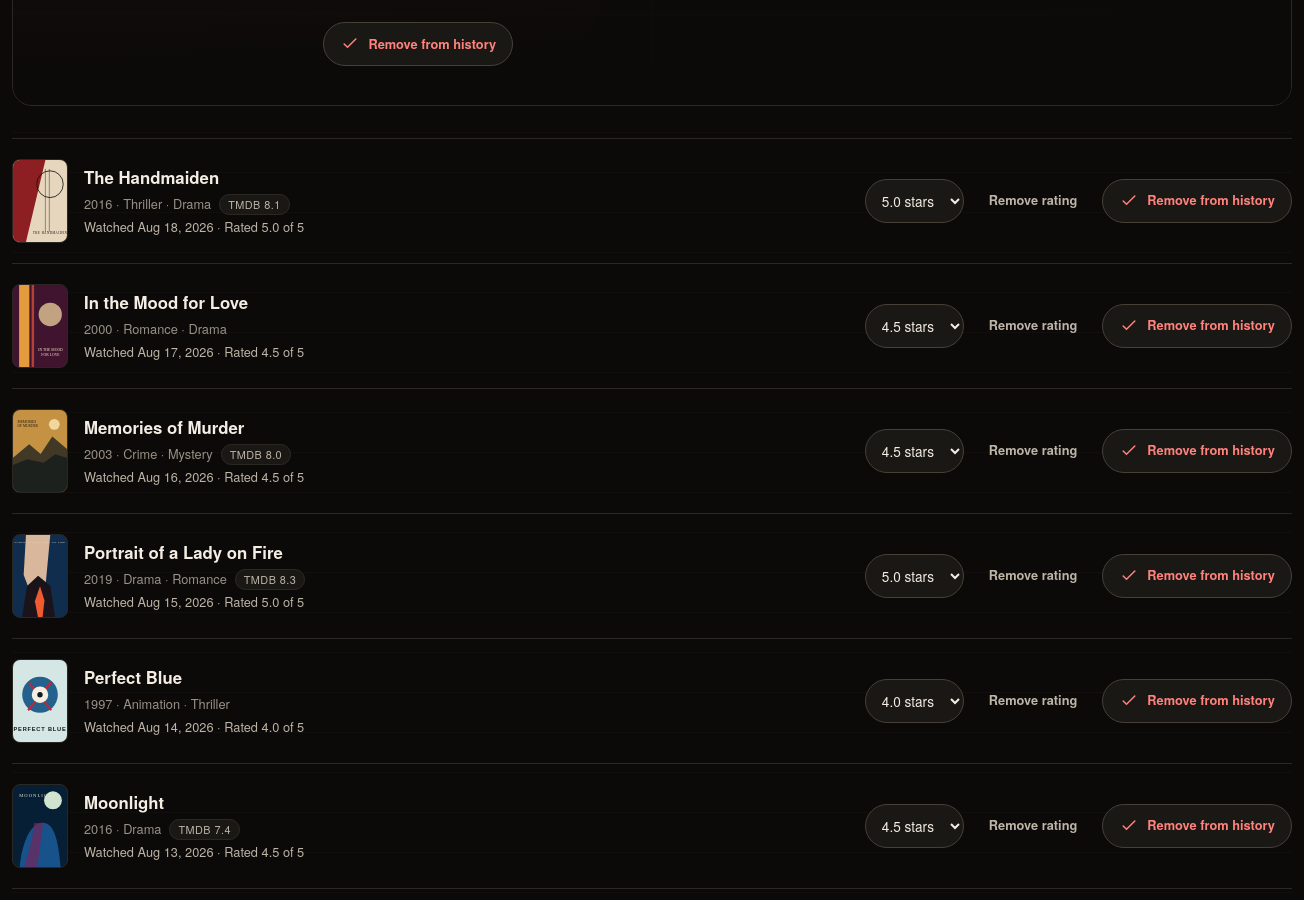
Test: deleting a rating is not removing history › clears the star and leaves the movie in History without a confirmation
(page scrolled)
Click the button "Remove rating" in the row of "Memories of Murder" at coordinates (1033, 451), box top-left (972, 429), bottom-right (1094, 473)
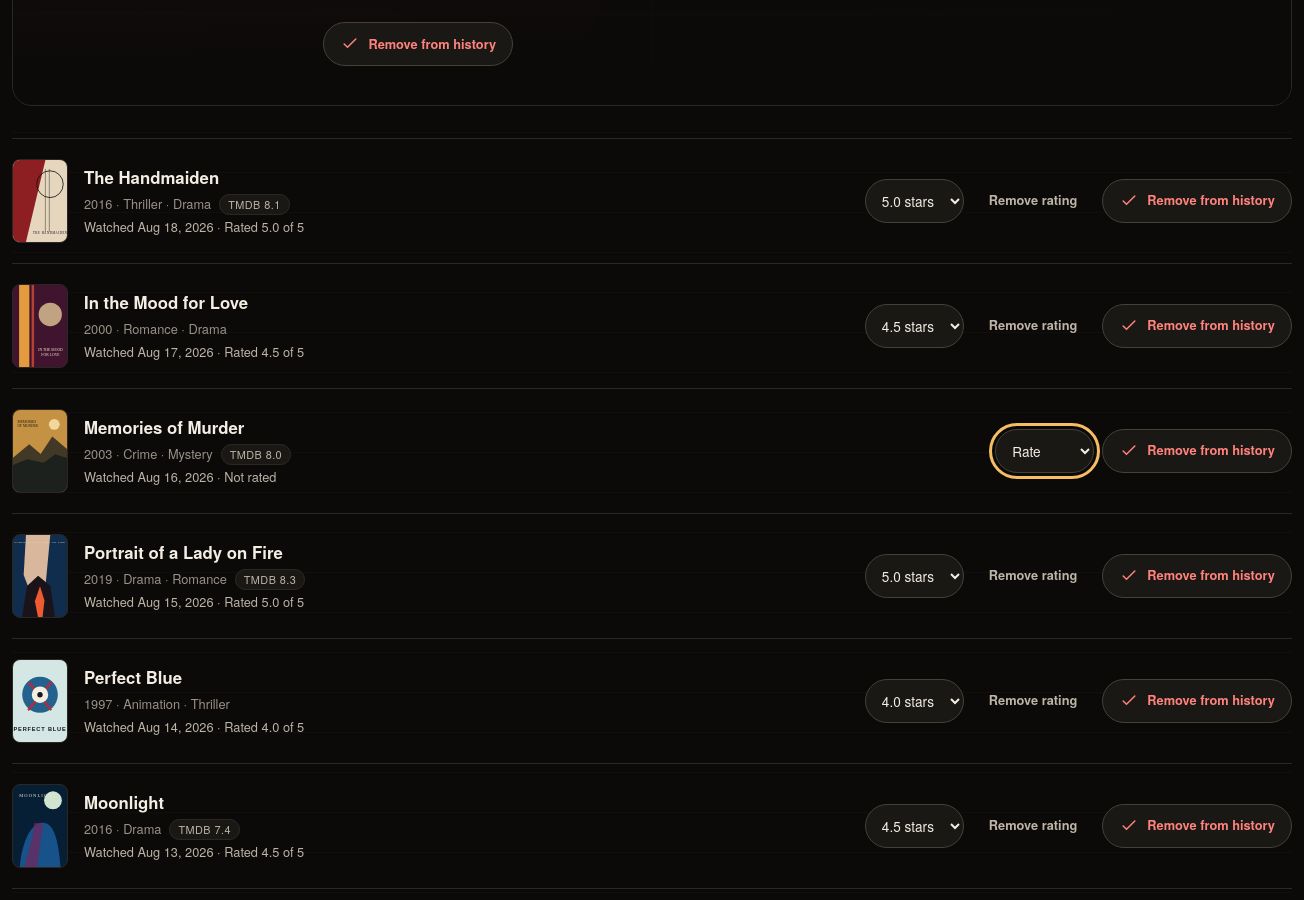
Expected: the button "Remove from history" in the row of "Memories of Murder" is shown, top-left (1102, 428), bottom-right (1292, 473)
Now the text "Watched Aug 16, 2026 · Not rated" is shown, box top-left (84, 467), bottom-right (276, 486)
